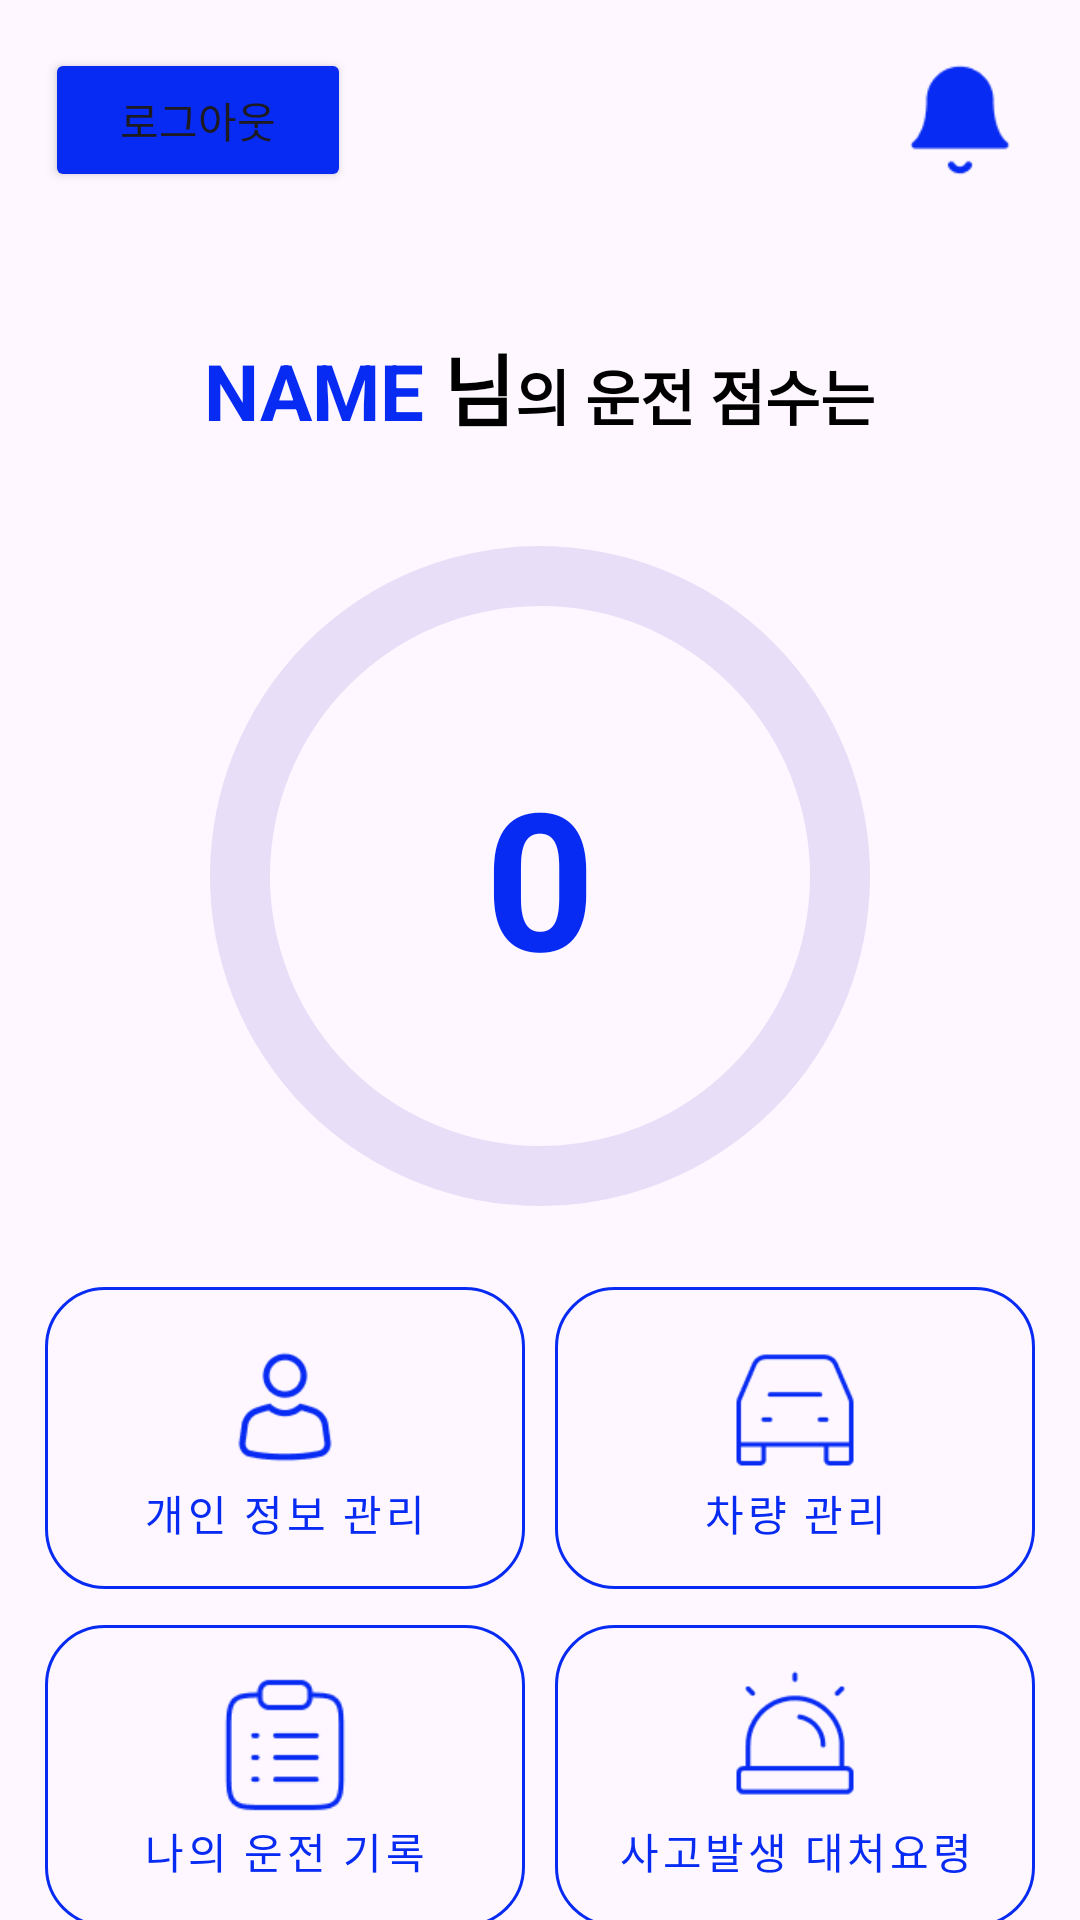

Locate icon controls on the screen. Image size 1080 × 1920, boxes as {"left": x1, "top": y1, "right": x2, "bottom": y2}.
alarm bell: {"left": 910, "top": 66, "right": 1010, "bottom": 174}
